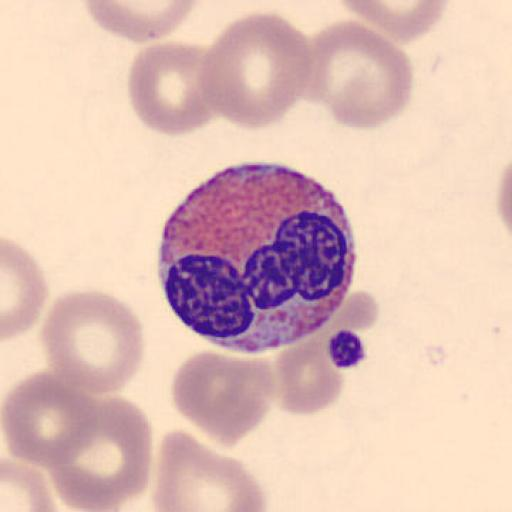RBC: (196, 10, 314, 131), (42, 394, 154, 510), (301, 18, 414, 132), (38, 286, 146, 398), (170, 347, 277, 449), (152, 429, 269, 512), (2, 368, 99, 467), (127, 39, 219, 137), (271, 335, 345, 417), (80, 0, 204, 44), (333, 0, 453, 44), (1, 236, 50, 342), (1, 454, 62, 512), (326, 287, 380, 335), (495, 145, 512, 244), (496, 162, 512, 239)
WBC: (156, 160, 359, 352)
